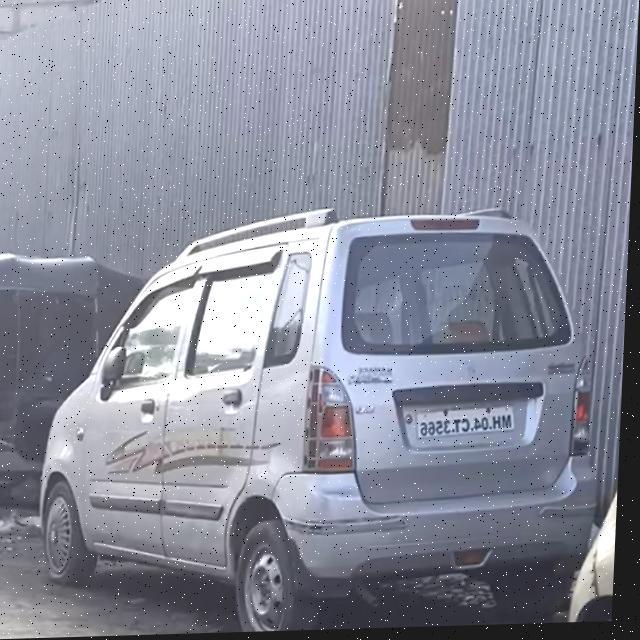plate: (417, 406, 523, 444)
